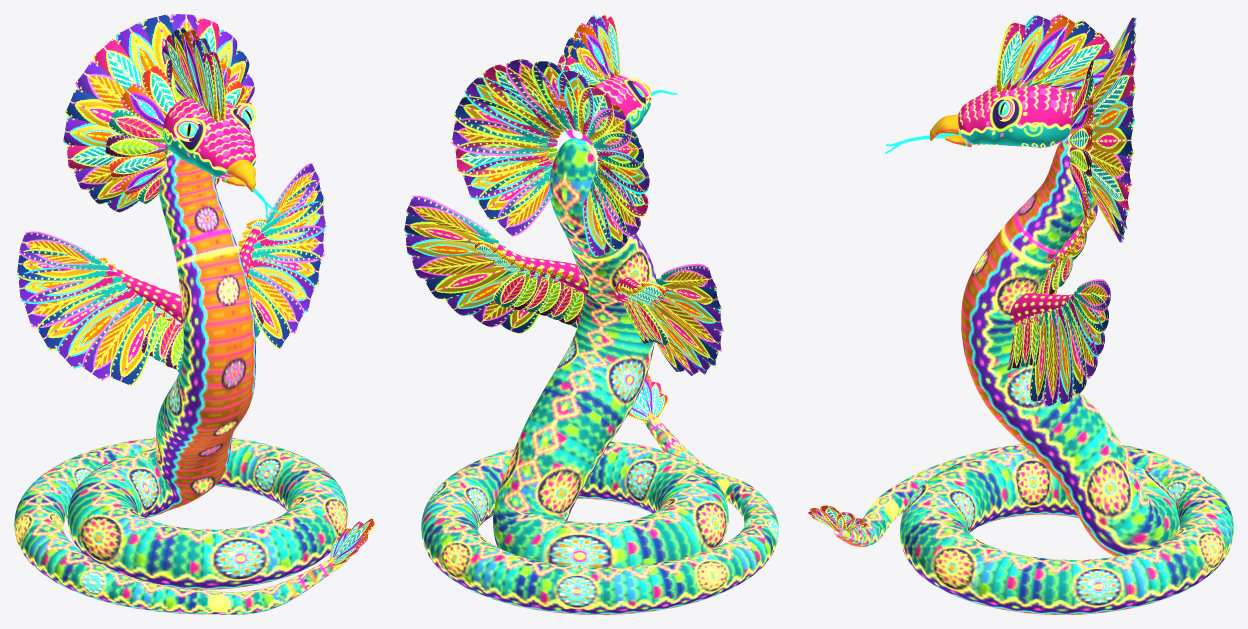
File: alebrije_serpiente_hero.glb
The picture shows the model from 3 angles, left to right: view 1: azimuth 30°, elevation 25°; view 2: azimuth 150°, elevation 25°; view 3: azimuth 270°, elevation 25°; orthographic projection. The views are drawn at different scales.
Visible parts, largest first — view 1: alebrije_serpiente_hero; view 2: alebrije_serpiente_hero; view 3: alebrije_serpiente_hero.
Part boxes in pixels (x1,y1,x2,y2): alebrije_serpiente_hero: [14, 14, 375, 614]; alebrije_serpiente_hero: [404, 14, 778, 614]; alebrije_serpiente_hero: [807, 14, 1233, 614].
Size of the model in its own units: 0.8779 by 1.37 by 0.9786.
Materials: 3 (3 with a texture image).
